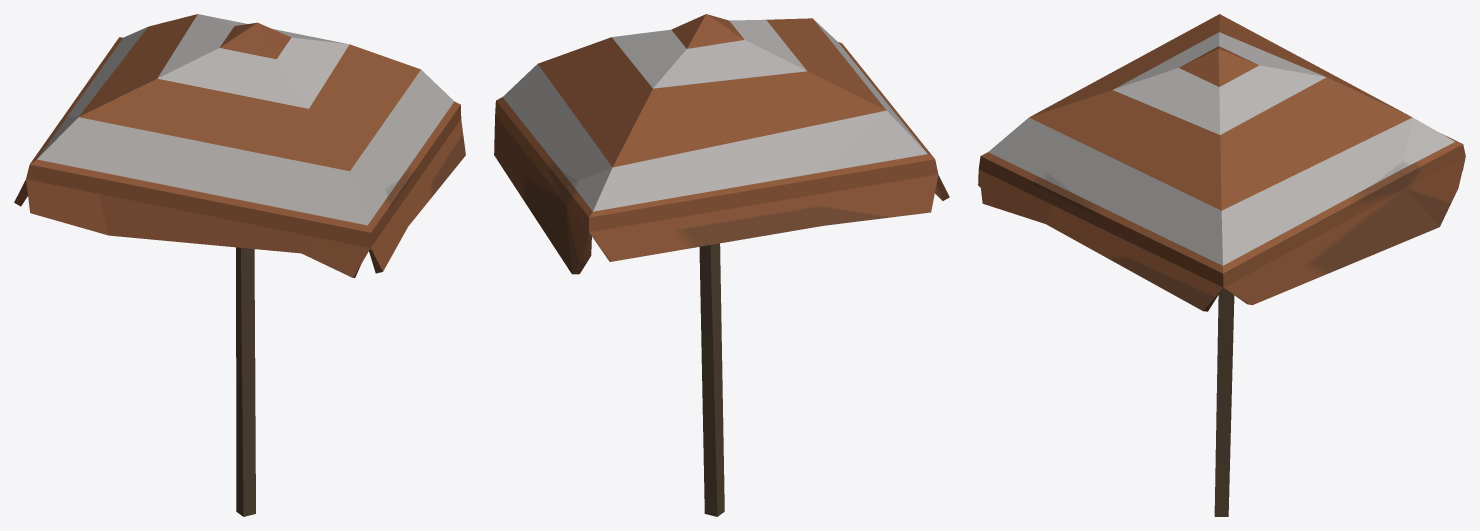
File: SM_Prop_Umbrella_01.fbx
3 renders of one model, left to right at view 1: azimuth 30°, elevation 25°; view 2: azimuth 150°, elevation 25°; view 3: azimuth 270°, elevation 25°, orthographic. The views are drawn at different scales.
Parts seen in each view (by area): view 1: SM_Prop_Umbrella_01; view 2: SM_Prop_Umbrella_01; view 3: SM_Prop_Umbrella_01.
Part boxes in pixels (left/top/right/bottom): SM_Prop_Umbrella_01: left=14, top=14, right=465, bottom=516; SM_Prop_Umbrella_01: left=494, top=14, right=949, bottom=516; SM_Prop_Umbrella_01: left=978, top=14, right=1465, bottom=516.
Bounding box in the file's own units: 222 × 236 × 222.
